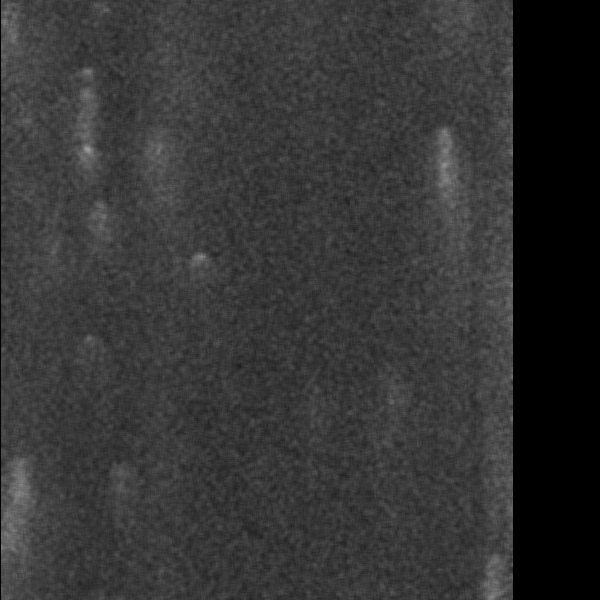spark: (1, 445, 40, 597), (433, 115, 457, 275), (93, 196, 113, 263), (3, 1, 21, 69), (147, 126, 162, 187), (189, 249, 210, 272), (74, 63, 96, 81)
